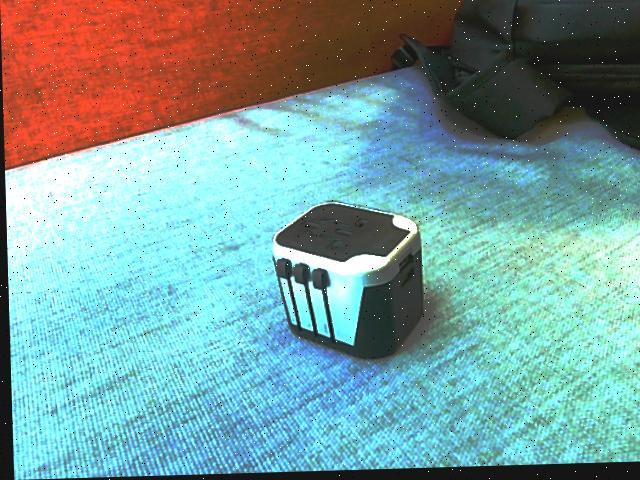adapter: (268, 200, 424, 364)
